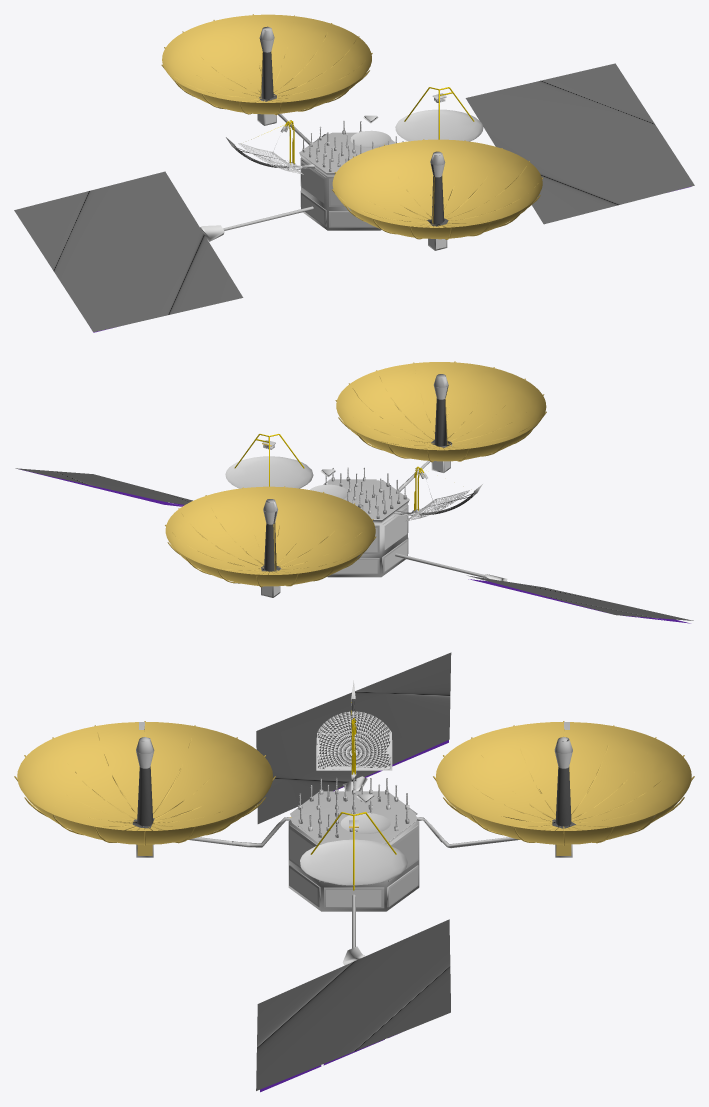
The model's file is tdrs-first-gen.glb.
The picture shows the model from 3 angles, top to bottom: view 1: azimuth 30°, elevation 25°; view 2: azimuth 150°, elevation 25°; view 3: azimuth 270°, elevation 25°; orthographic projection. The views are drawn at different scales.
Visible parts, largest first — view 1: Fake; view 2: Fake; view 3: Fake.
Boxes of the visible parts, x1,y1,x2,y2 form: Fake: (14, 14, 694, 332); Fake: (15, 361, 693, 623); Fake: (14, 652, 694, 1092).
Size of the model in its own units: 1 by 0.2249 by 0.7989.
